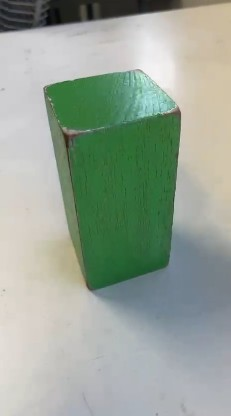green: (50, 47, 217, 297)
